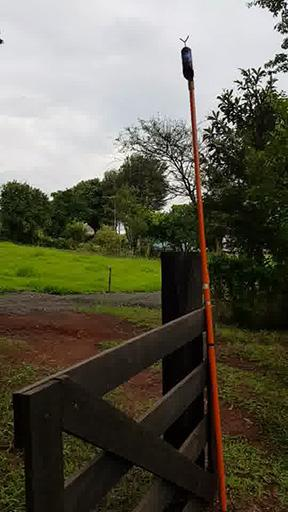Detector_Tensao_Contato: (178, 33, 195, 85)
Vara_Manobra: (188, 82, 226, 512)
